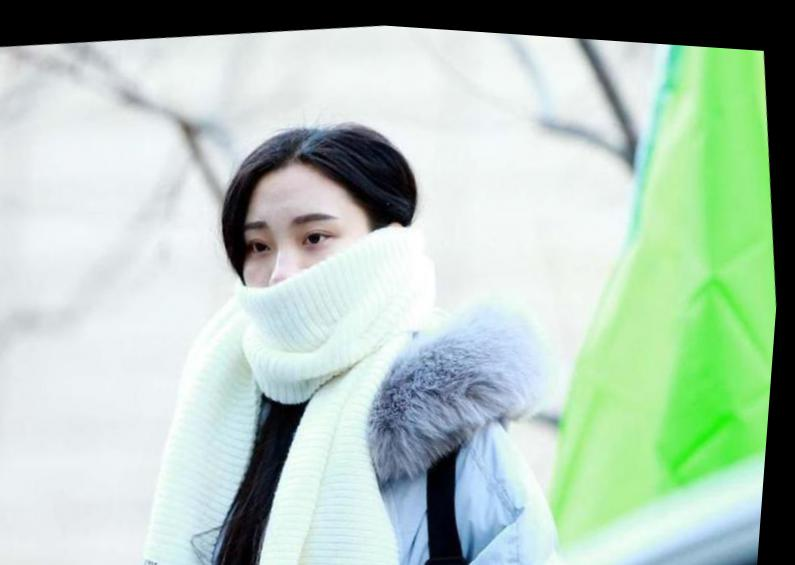WRONG: (229, 171, 383, 345)
